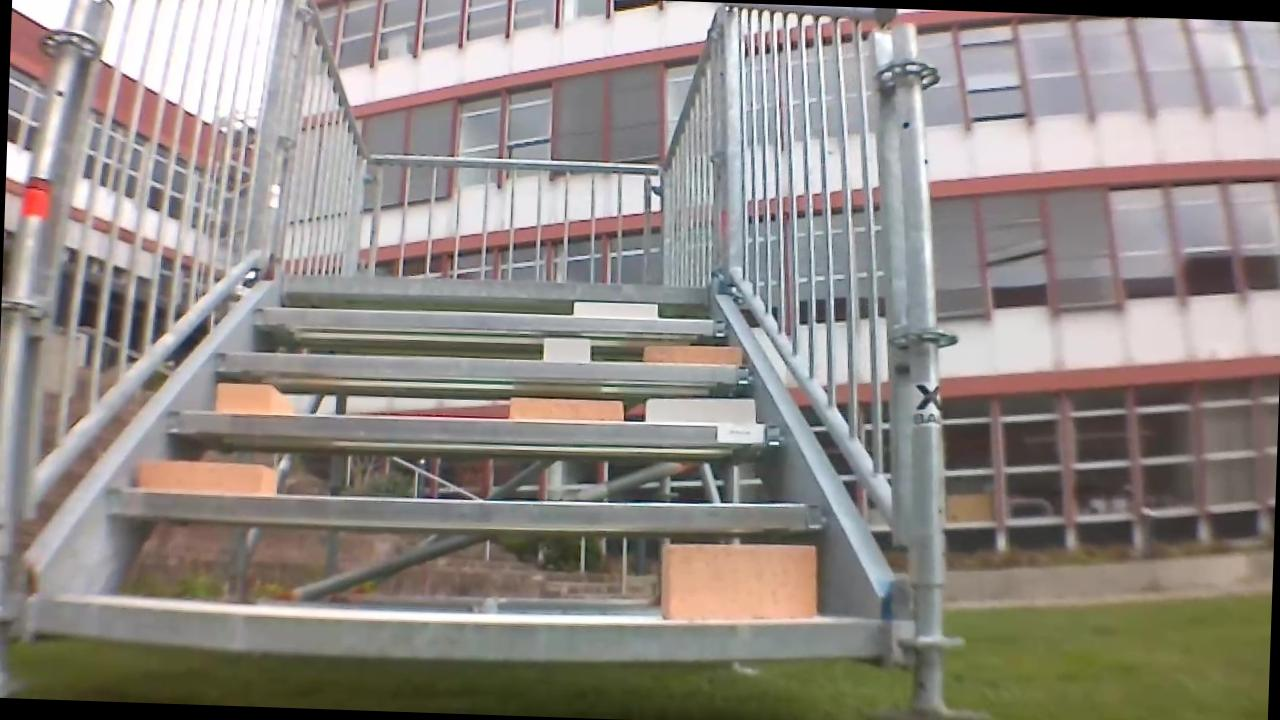brick: (659, 540, 819, 621), (138, 459, 277, 496), (645, 396, 752, 424), (508, 397, 620, 421), (214, 382, 293, 414), (641, 344, 738, 364), (572, 300, 656, 318), (544, 337, 589, 362)
edge: (39, 597, 882, 670), (109, 479, 821, 539), (166, 404, 788, 452), (214, 346, 752, 387), (251, 303, 726, 336), (286, 271, 714, 302)
steps: (33, 257, 906, 683)
